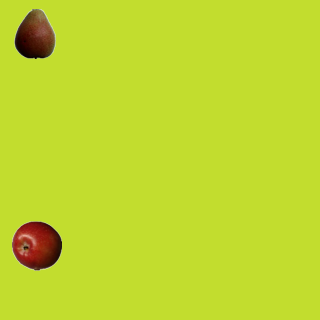Apple Braeburn: (11, 220, 61, 270)
Pear Forelle: (9, 8, 59, 58)
